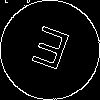E: (25, 25, 73, 80)
